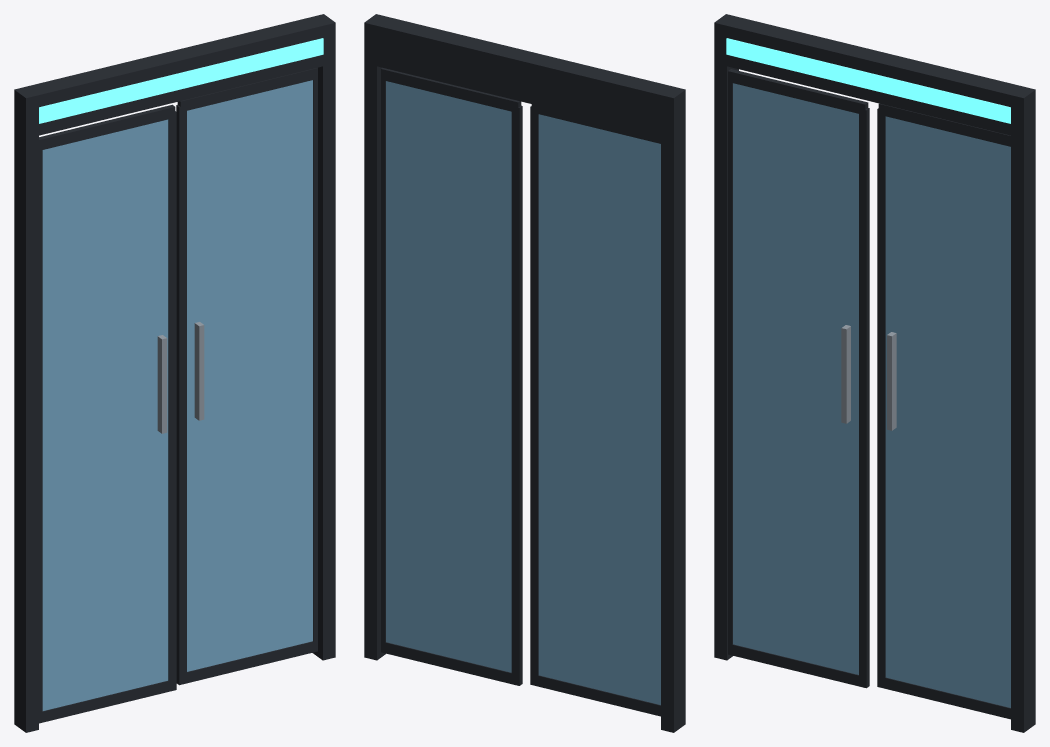
The model's file is 25_Cold_Aisle_Sliding_Door.fbx.
3 views of the same model, side by side, from view 1: azimuth 30°, elevation 25°; view 2: azimuth 150°, elevation 25°; view 3: azimuth 330°, elevation 25° (orthographic).
Parts seen in each view (by area): view 1: 25_Cold_Aisle_Sliding_Door; view 2: 25_Cold_Aisle_Sliding_Door; view 3: 25_Cold_Aisle_Sliding_Door.
Boxes of the visible parts, x1,y1,x2,y2 form: 25_Cold_Aisle_Sliding_Door: (14, 14, 335, 732); 25_Cold_Aisle_Sliding_Door: (364, 14, 685, 732); 25_Cold_Aisle_Sliding_Door: (714, 14, 1035, 732).
Size of the model in its own units: 1.2 by 2.35 by 0.109.
